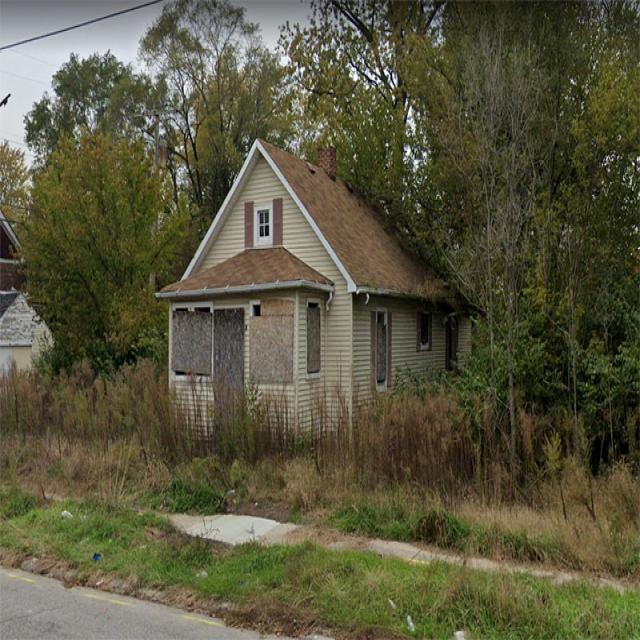House: (154, 142, 486, 448)
